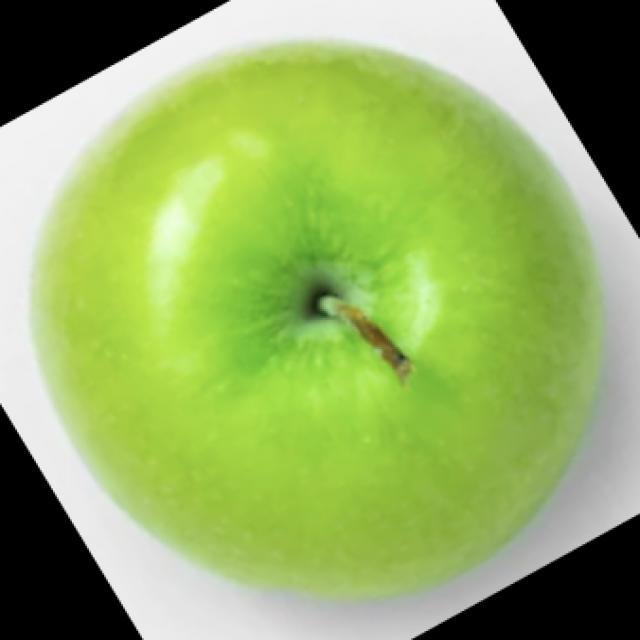Fresh Apple: (48, 47, 602, 605)
